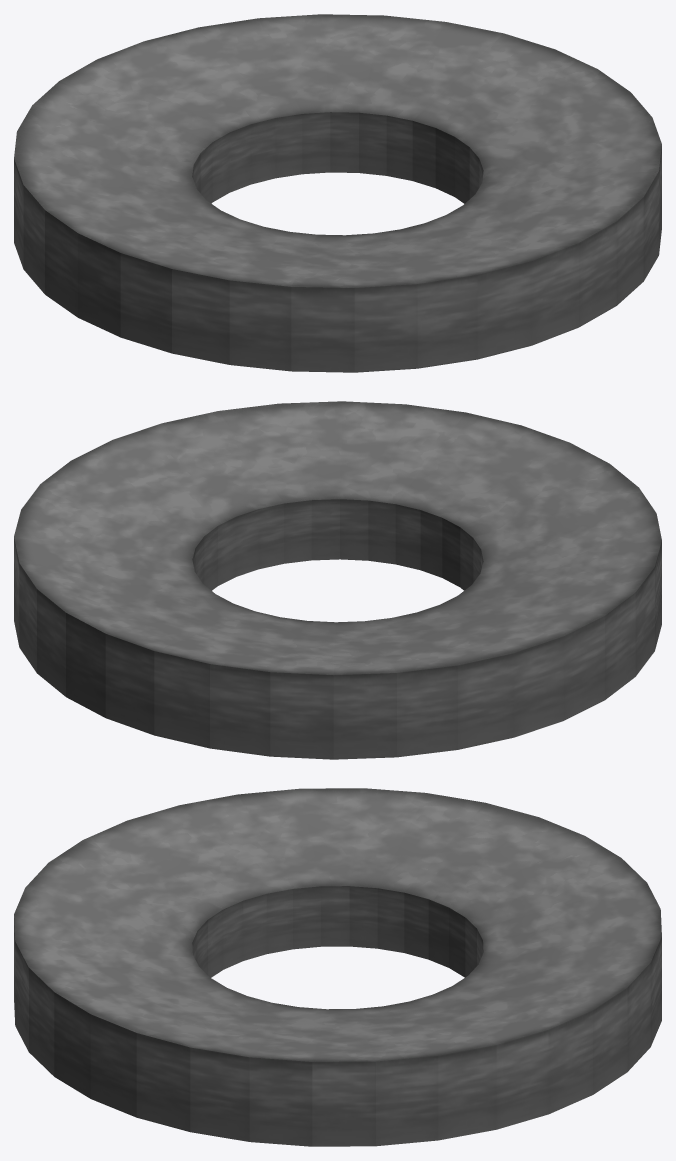
Rendered from anneaux_petit.gltf.
3 renders of one model, top to bottom at view 1: azimuth 30°, elevation 25°; view 2: azimuth 150°, elevation 25°; view 3: azimuth 270°, elevation 25°, orthographic.
Visible parts, largest first — view 1: Circle.003_Baked; view 2: Circle.003_Baked; view 3: Circle.003_Baked.
Boxes of the visible parts, bbox=[...] form: Circle.003_Baked: bbox=[14, 14, 661, 372]; Circle.003_Baked: bbox=[14, 401, 661, 759]; Circle.003_Baked: bbox=[14, 788, 661, 1146].
Bounding box in the file's own units: 99.6 × 14.37 × 99.6.
1 material, 1 textured.
